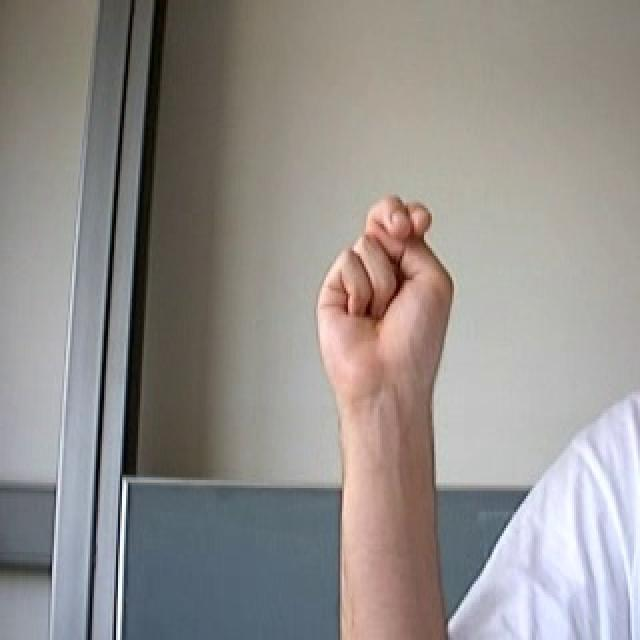N: (312, 194, 463, 426)
